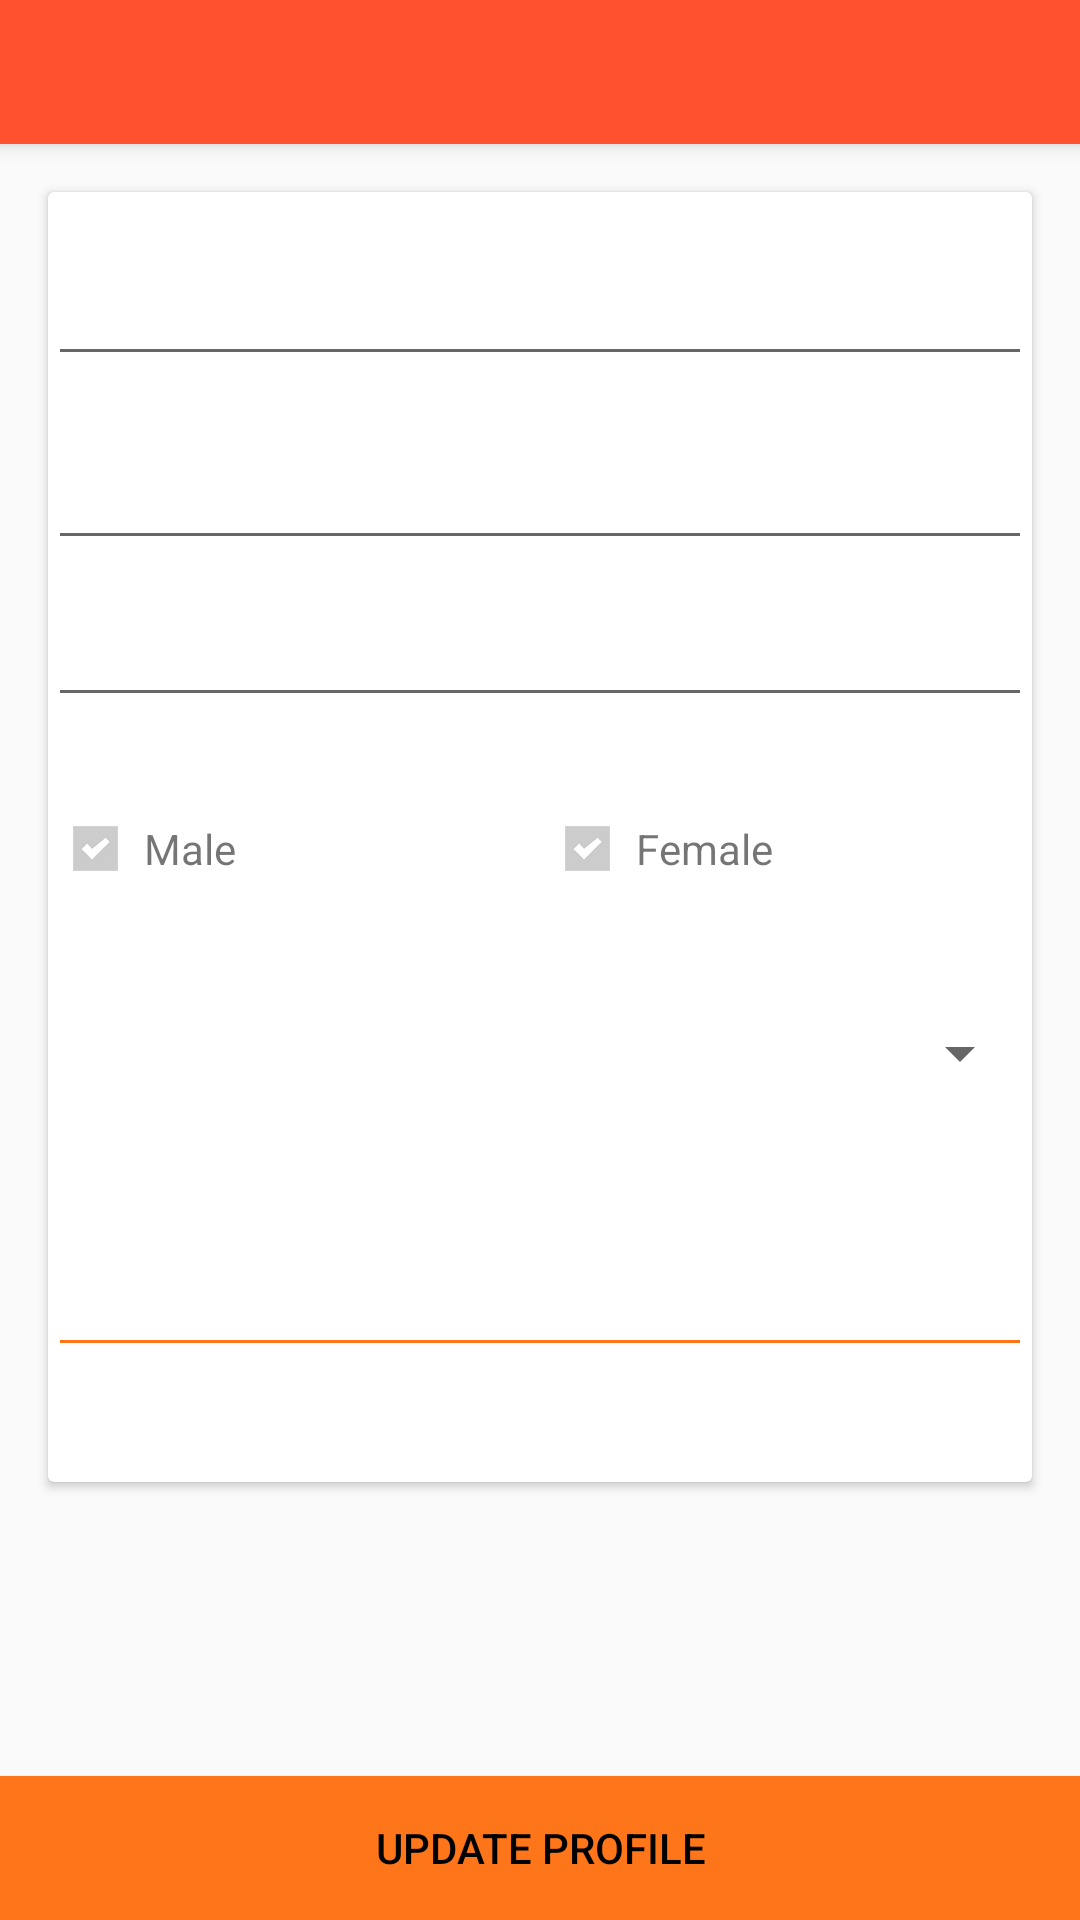

Locate icon controls on the screen. Image size 1080×1920, boxes as (x1, y1, x2, y2).
checkbox: (73, 826, 118, 871), (565, 826, 610, 871)
